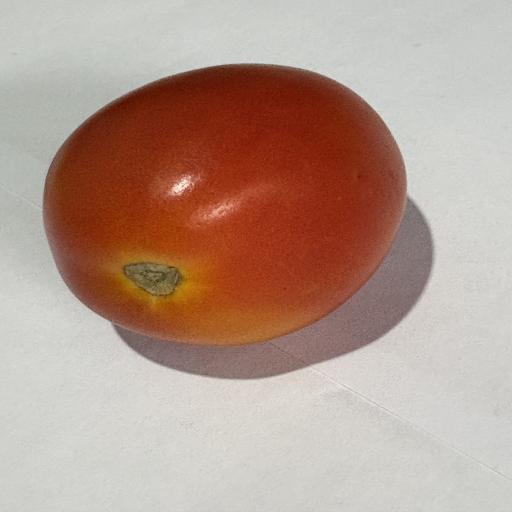ripe: (43, 64, 406, 345)
